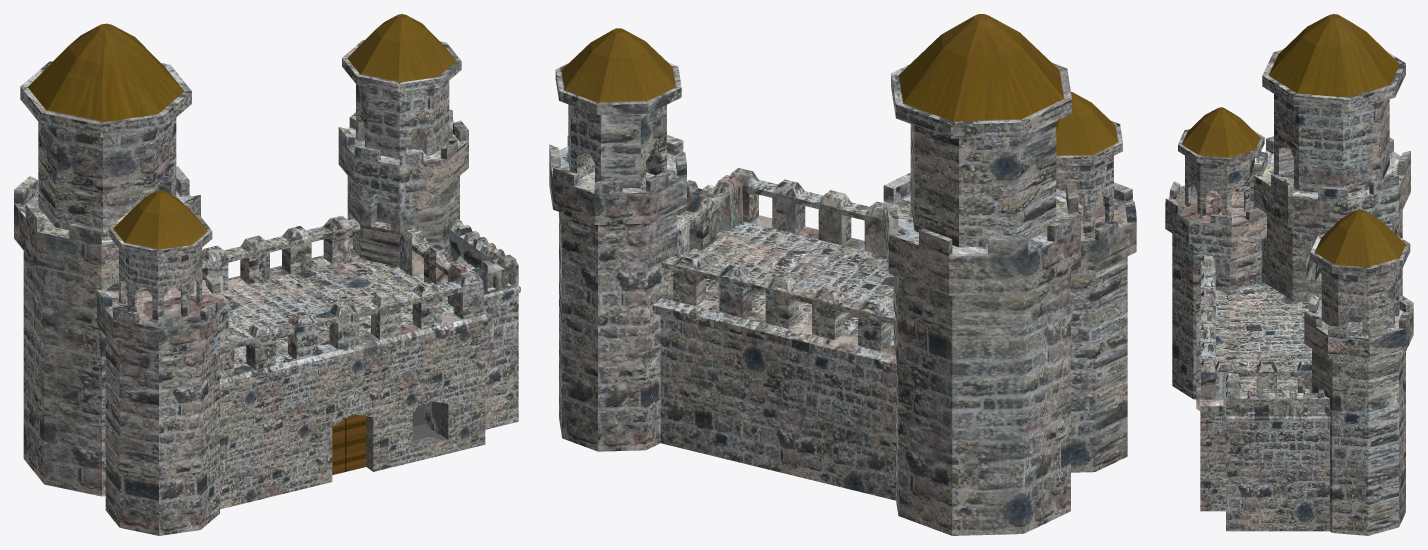
The model's file is Mini Castle.fbx.
The picture shows the model from 3 angles, left to right: view 1: azimuth 30°, elevation 25°; view 2: azimuth 150°, elevation 25°; view 3: azimuth 270°, elevation 25°; orthographic projection. The views are drawn at different scales.
Parts seen in each view (by area): view 1: Castle_Building, Tower_3, Top_Tower_1, Tower_1, Tower_2, Top_Tower_2, Top_Tower_3, Castle_Balcony; view 2: Castle_Building, Tower_1, Top_Tower_1, Tower_2, Tower_3, Top_Tower_2, Top_Tower_3; view 3: Top_Tower_1, Tower_2, Castle_Balcony, Castle_Building, Tower_1, Tower_3, Top_Tower_2, Top_Tower_3.
Part boxes in pixels (bbox=[...]): Castle_Building: bbox=[202, 215, 492, 509]; Tower_3: bbox=[96, 273, 228, 535]; Top_Tower_1: bbox=[20, 23, 191, 237]; Tower_1: bbox=[14, 166, 200, 496]; Tower_2: bbox=[338, 109, 468, 266]; Top_Tower_2: bbox=[342, 14, 461, 159]; Top_Tower_3: bbox=[109, 190, 212, 320]; Castle_Balcony: bbox=[449, 219, 520, 429]; Castle_Building: bbox=[653, 168, 896, 500]; Tower_1: bbox=[883, 173, 1080, 535]; Top_Tower_1: bbox=[891, 14, 1071, 247]; Tower_2: bbox=[549, 134, 686, 451]; Tower_3: bbox=[1071, 182, 1136, 472]; Top_Tower_2: bbox=[555, 28, 681, 188]; Top_Tower_3: bbox=[1056, 92, 1122, 232]; Top_Tower_1: bbox=[1262, 14, 1405, 192]; Tower_2: bbox=[1304, 294, 1413, 535]; Castle_Balcony: bbox=[1223, 373, 1331, 531]; Castle_Building: bbox=[1196, 255, 1321, 511]; Tower_1: bbox=[1254, 136, 1410, 301]; Tower_3: bbox=[1165, 181, 1266, 399]; Top_Tower_2: bbox=[1310, 209, 1410, 333]; Top_Tower_3: bbox=[1178, 107, 1264, 215].
Bounding box in the file's own units: 1983 × 1837 × 1120.
Materials: 1 (1 with a texture image).
